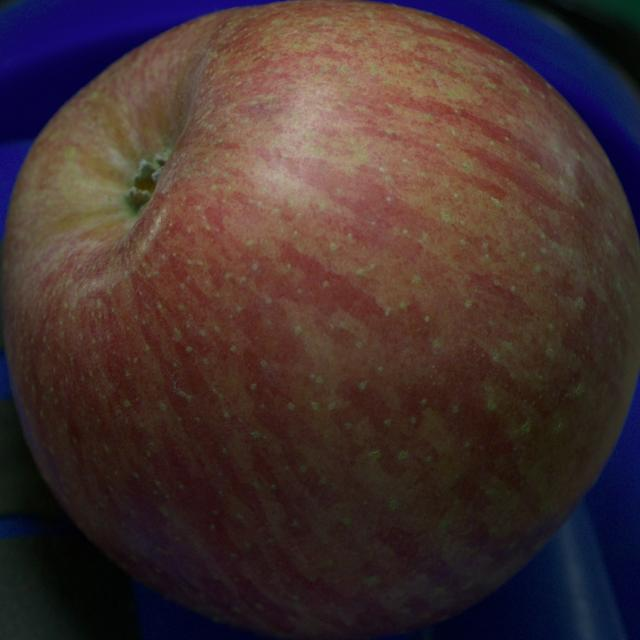apple: (2, 0, 639, 639)
